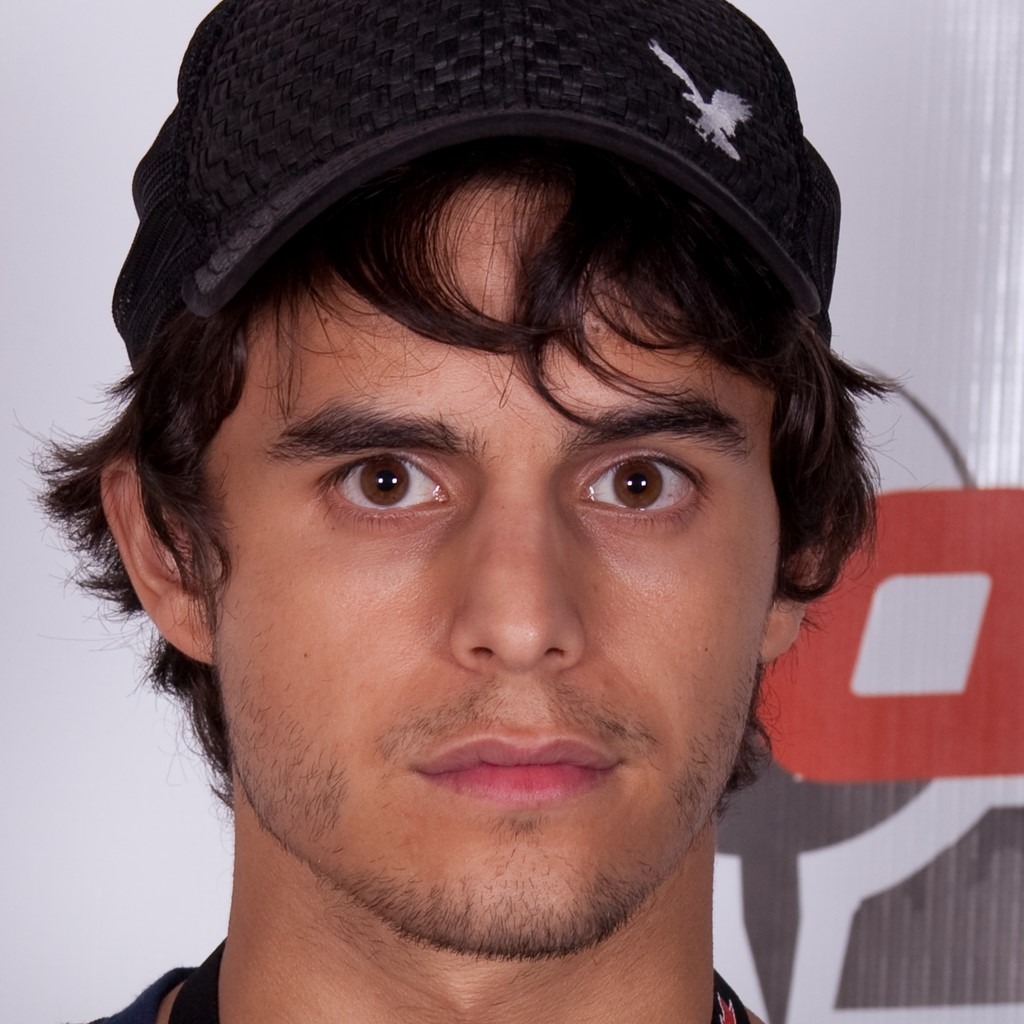sin_mascara: (167, 130, 787, 956)
